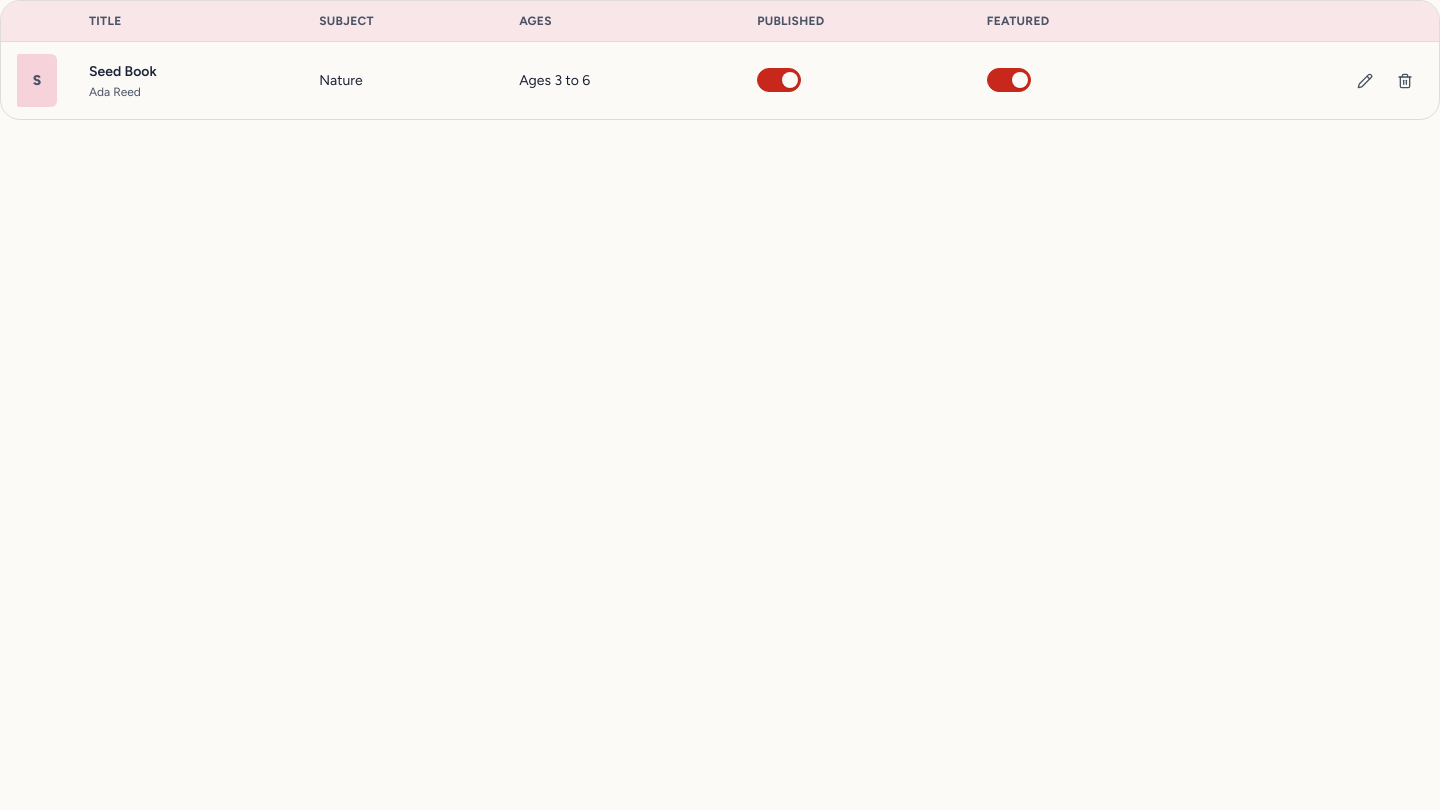
Test: BookTable › delete asks for confirmation before calling the API
This screenshot has width=1440, height=810.
Click the button named "Delete Seed Book" at [1405, 81], box x1=1387 y1=63 x2=1423 y2=99
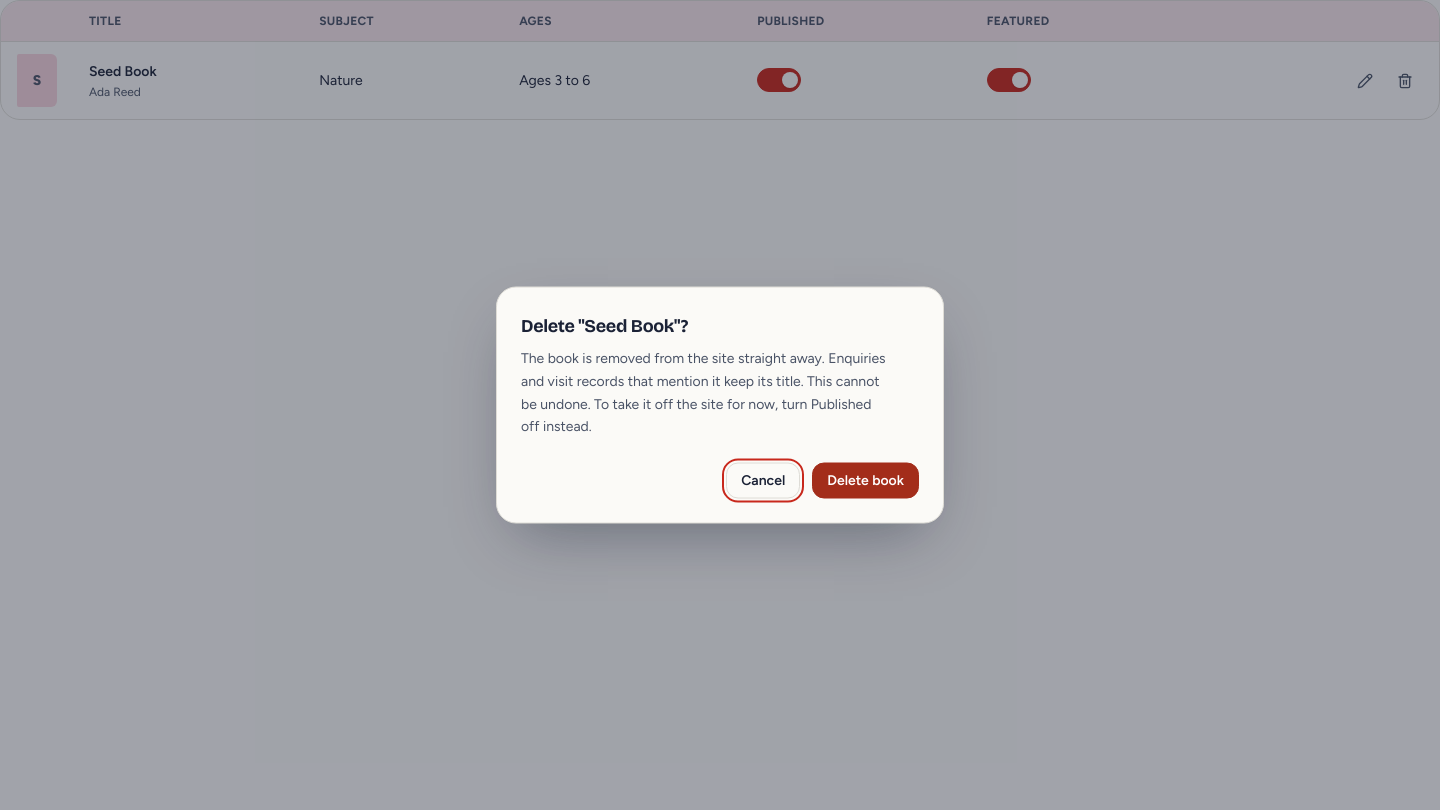
Click the button "Cancel" at [763, 480], box x1=726 y1=462 x2=800 y2=498
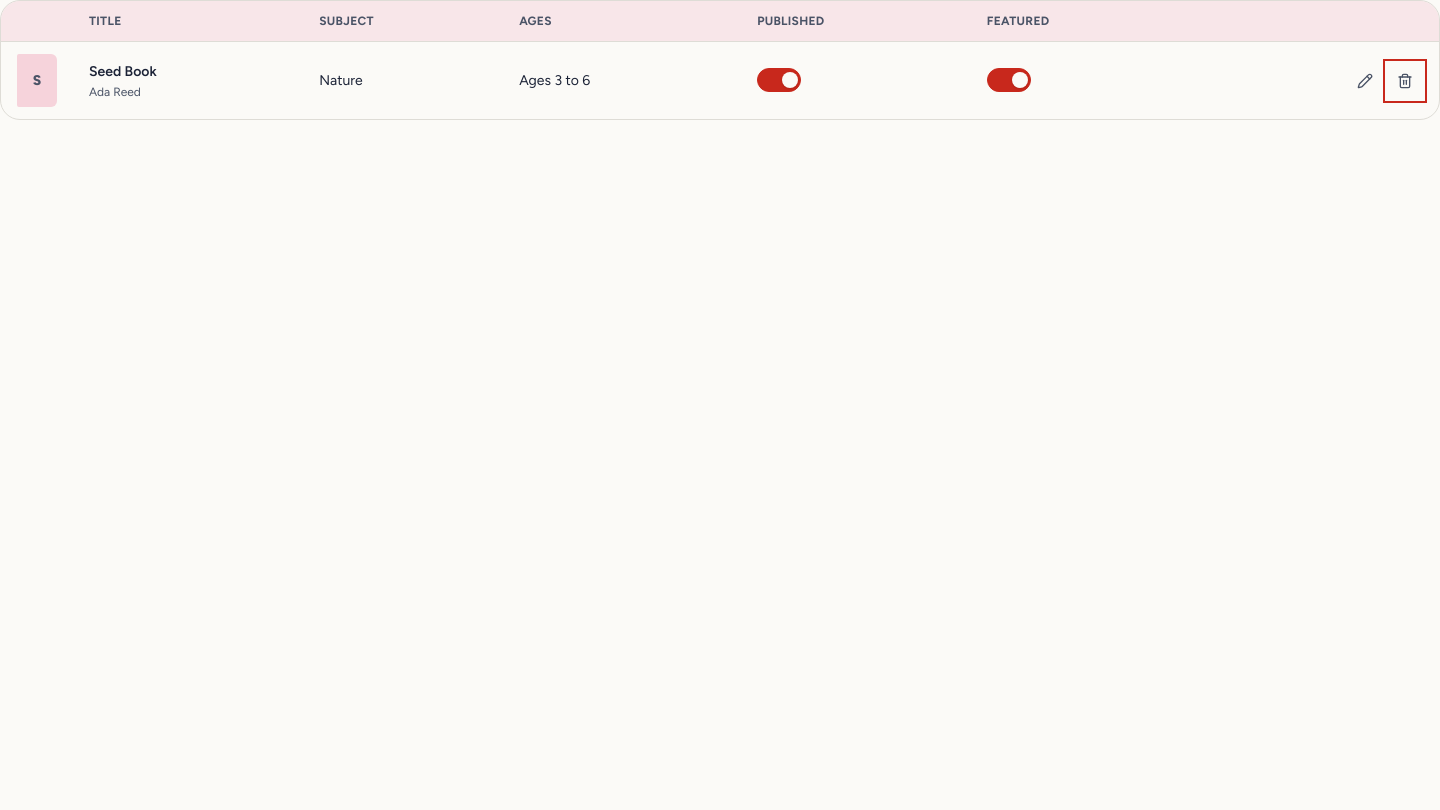
expect the link "Seed Book" is shown: met, box x1=89 y1=63 x2=157 y2=80
Click the button named "Delete Seed Book" at [1405, 81], box x1=1387 y1=63 x2=1423 y2=99
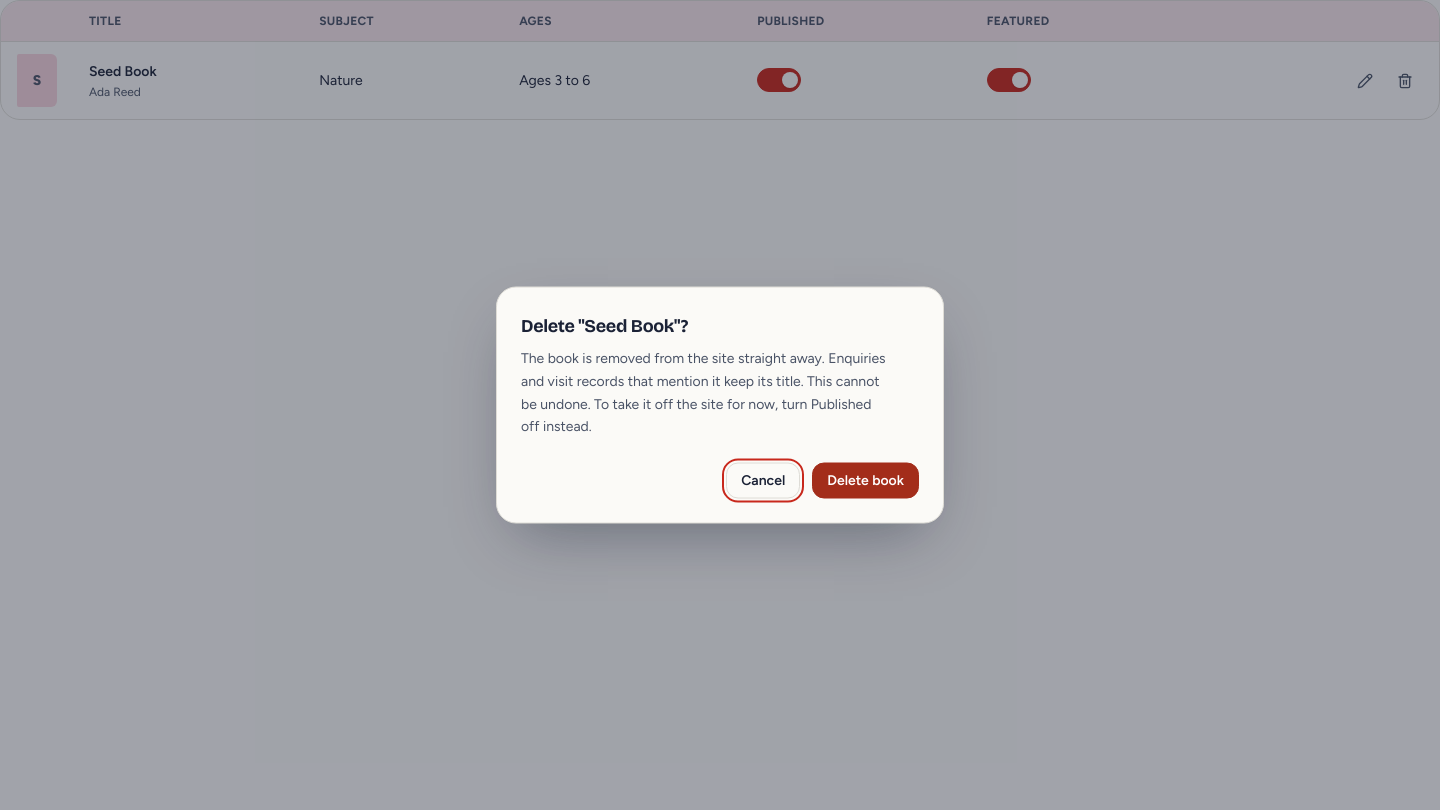
Click the button "Delete book" at [866, 480], box x1=812 y1=462 x2=919 y2=498
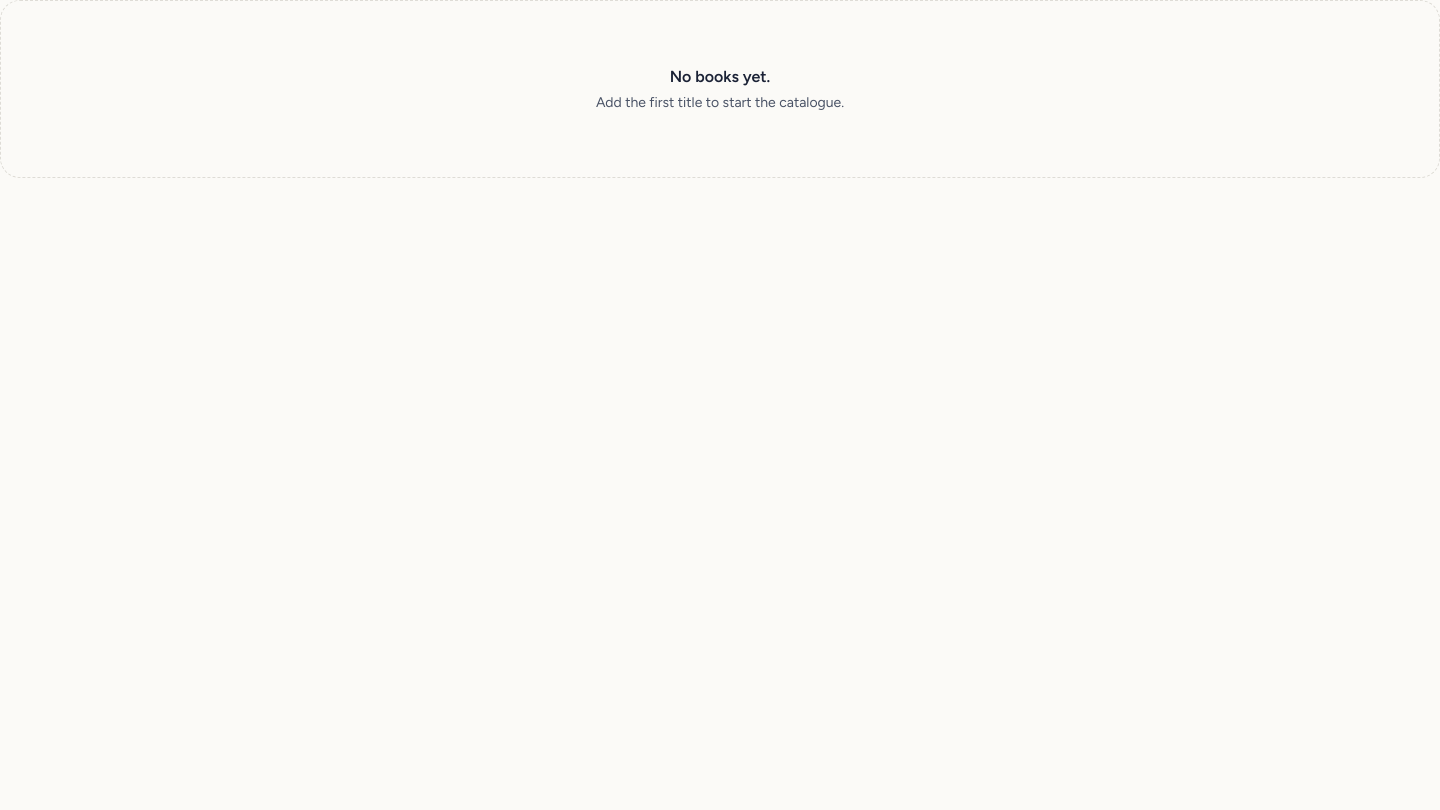
expect the link "Seed Book" is gone: met
